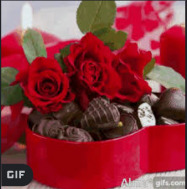RedRose: (61, 34, 117, 98), (20, 60, 76, 119)
